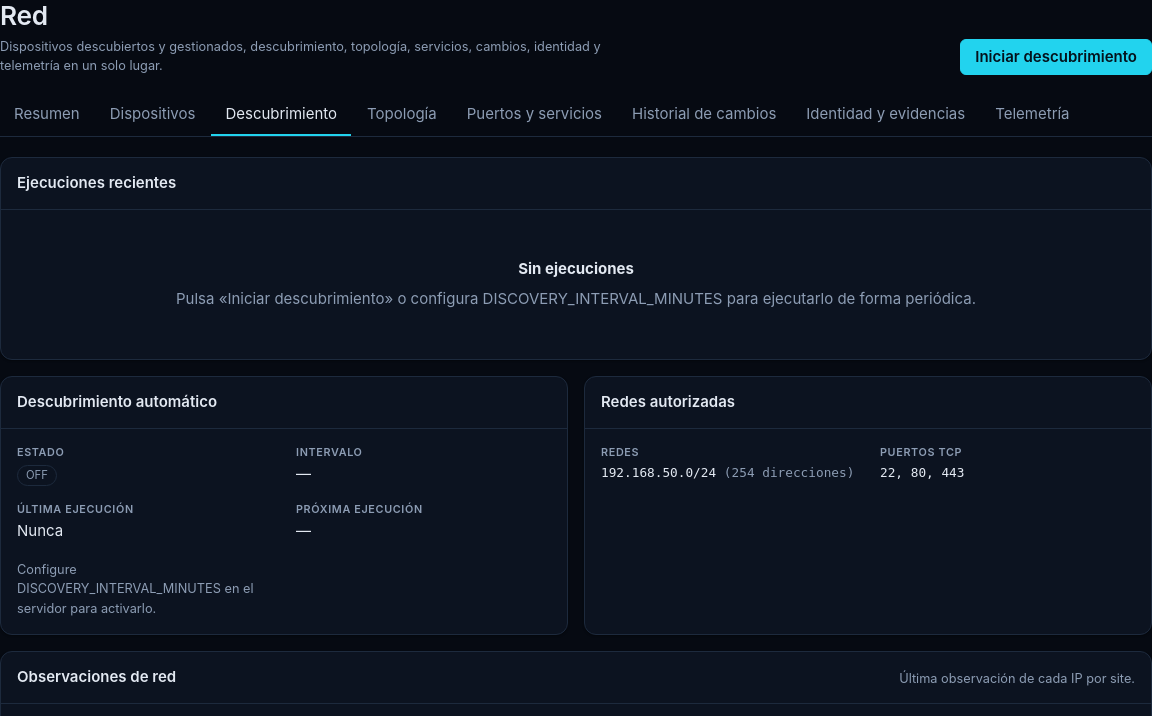
NetworkPage: descubrimiento desde el dashboard › inicia un job y muestra progreso real con barra
Click the button "Iniciar descubrimiento" at (1056, 57), box 960,39 -> 1151,75
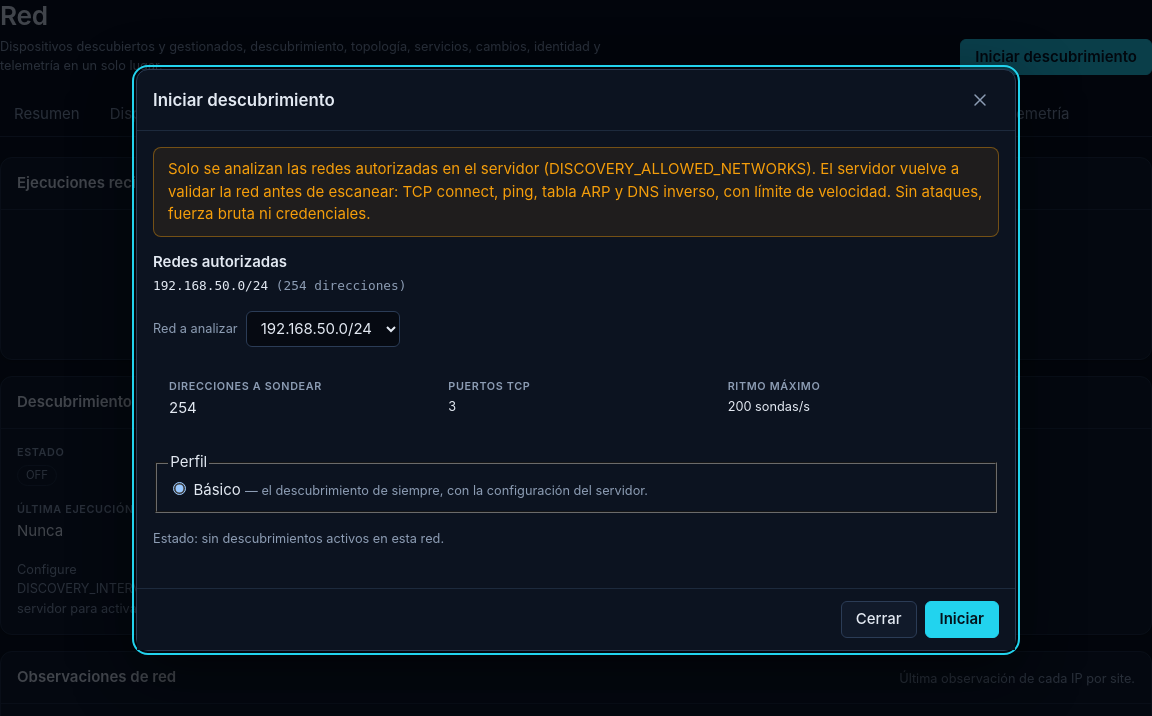
Click the button "Iniciar" at (962, 619), box 924,601 -> 999,638
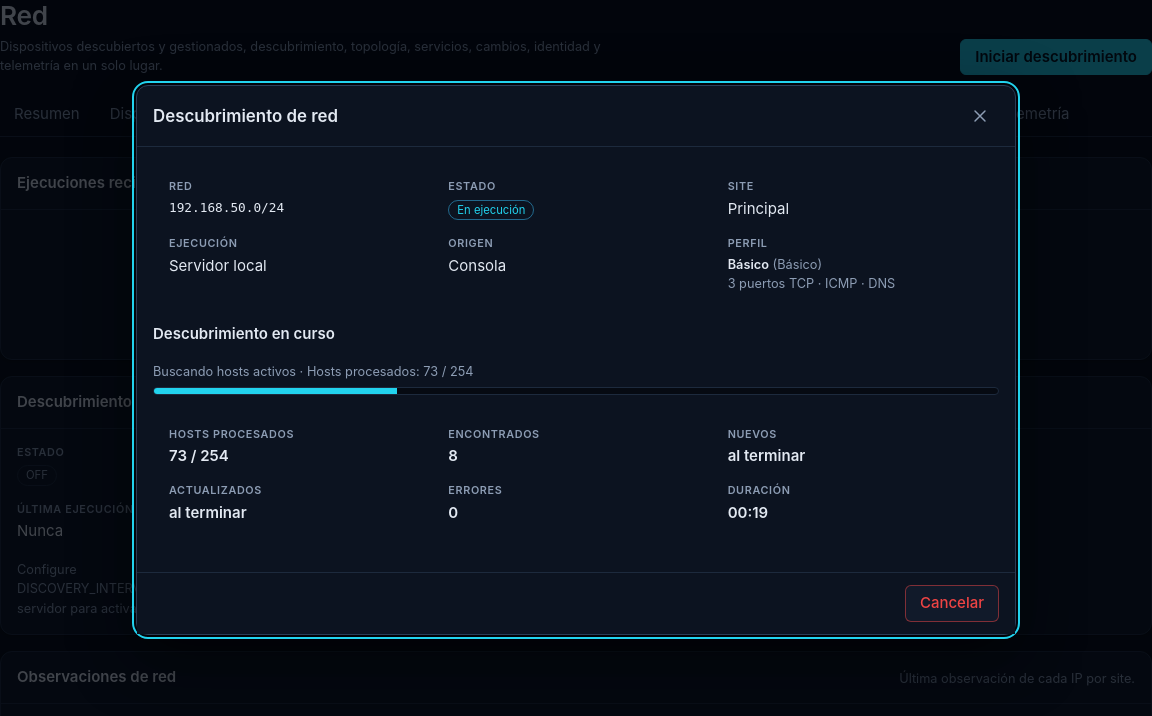
Result: the heading "Descubrimiento en curso" is shown at 153,324 -> 335,343
Result: the text "73 / 254" is shown at 169,446 -> 229,465
Result: the text "8" is shown at 448,446 -> 458,465
